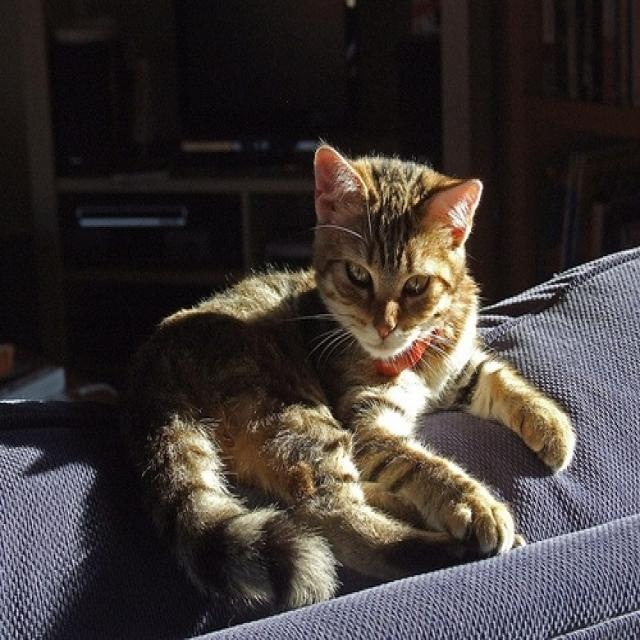Left_eye: (425, 176, 485, 244), (402, 270, 433, 302)
Nouse: (373, 318, 396, 342)
Right_ear: (312, 139, 368, 222)
Right_eye: (344, 257, 376, 292)
